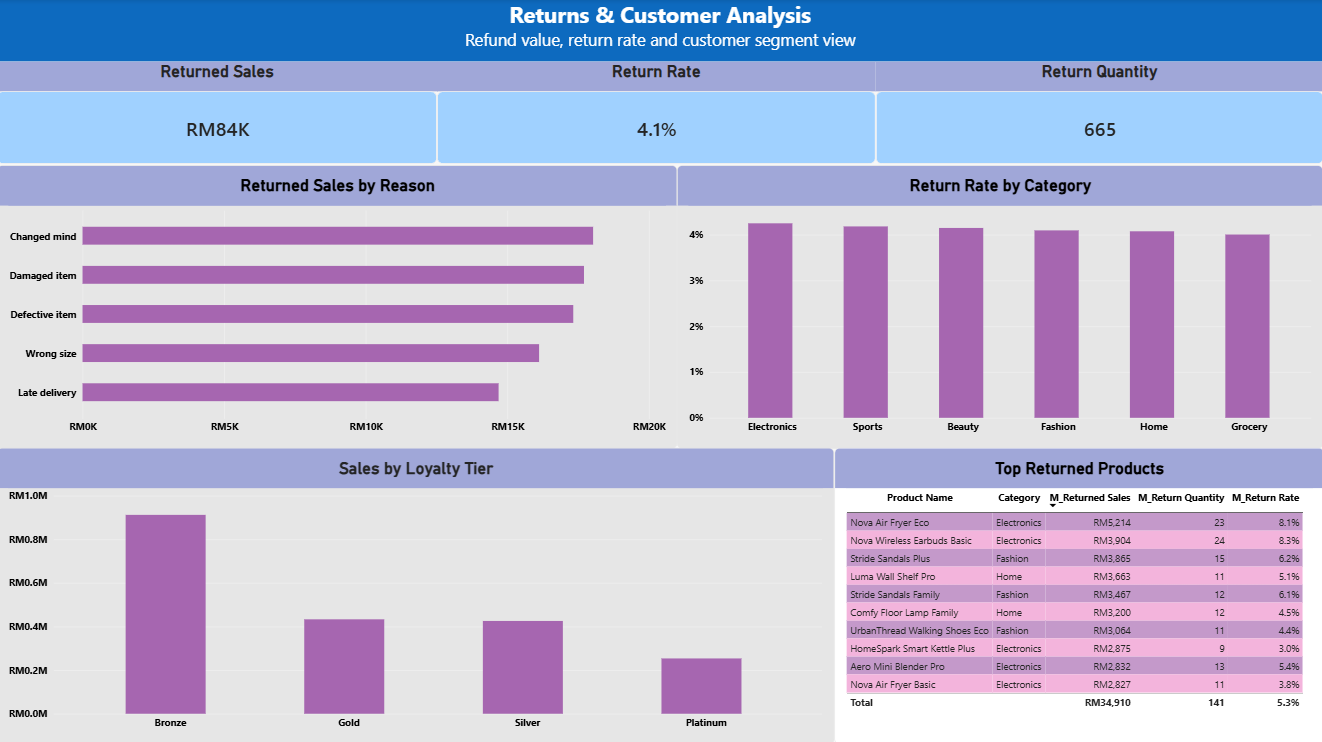

This screenshot's page, from the dashboard's own definition file:
{"tool":"powerbi","page":{"name":"Returns & Customer","canvas":[1920,1080],"ordinal":2},"visuals":[{"type":"textbox","box":[0,0,1920.4,90.7],"z":0},{"type":"cardVisual","title":"Returned Sales","fields":{"Data":["factSales.M_Returned Sales"]},"box":[0,90.7,637.3,149.1],"z":1},{"type":"cardVisual","title":"Return Rate","fields":{"Data":["factSales.M_Return Rate"]},"box":[637.3,90.7,635.1,149.1],"z":2},{"type":"cardVisual","title":"Return Quantity","fields":{"Data":["factSales.M_Return Quantity"]},"box":[1272.4,90.7,648.1,149.1],"z":3},{"type":"clusteredBarChart","title":"Returned Sales by Reason","fields":{"Category":["factReturns.Return Reason"],"Y":["factSales.M_Returned Sales"]},"box":[0,239.8,985.1,410.4],"z":4},{"type":"clusteredColumnChart","title":"Return Rate by Category","fields":{"Category":["dimProduct.Category"],"Y":["factSales.M_Return Rate"]},"box":[985.1,239.8,935.4,410.4],"z":5},{"type":"columnChart","title":"Sales by Loyalty Tier","fields":{"Category":["dimCustomer.Loyalty Tier"],"Y":["factSales.M_Total Sales"]},"box":[0,650.2,1211.9,429.9],"z":6},{"type":"tableEx","title":"Top Returned Products","fields":{"Values":["dimProduct.Product Name","dimProduct.Category","factSales.M_Returned Sales","factSales.M_Return Quantity","factSales.M_Return Rate"]},"box":[1211.9,650.2,708.6,429.9],"z":7}]}

Visuals, with their boxes in screenshot pixels (x1, y1, x2, y2), scaled from the page's 1920x1080 canvas onto the 1322x742 screenshot:
textbox: {"x1": 0, "y1": 0, "x2": 1321, "y2": 62}
"Returned Sales" cardVisual: {"x1": 0, "y1": 62, "x2": 439, "y2": 165}
"Return Rate" cardVisual: {"x1": 439, "y1": 62, "x2": 876, "y2": 165}
"Return Quantity" cardVisual: {"x1": 876, "y1": 62, "x2": 1321, "y2": 165}
"Returned Sales by Reason" clusteredBarChart: {"x1": 0, "y1": 165, "x2": 678, "y2": 447}
"Return Rate by Category" clusteredColumnChart: {"x1": 678, "y1": 165, "x2": 1321, "y2": 447}
"Sales by Loyalty Tier" columnChart: {"x1": 0, "y1": 447, "x2": 834, "y2": 741}
"Top Returned Products" tableEx: {"x1": 834, "y1": 447, "x2": 1321, "y2": 741}
